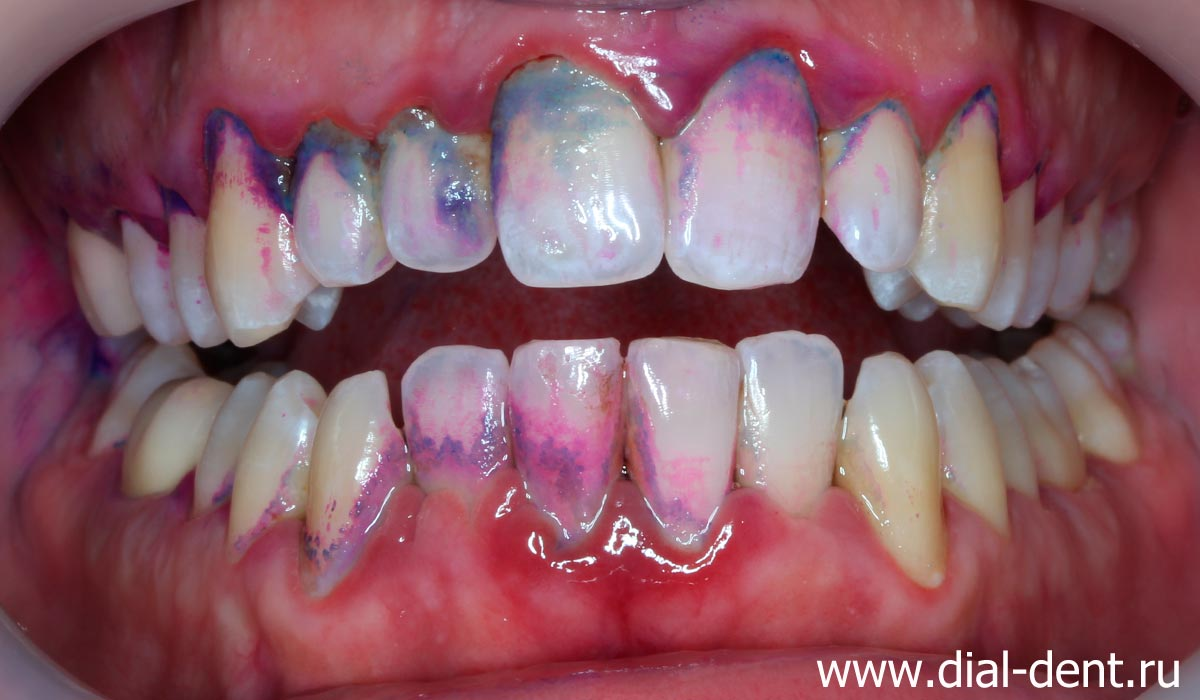LL1BC_healthy: (919, 347, 1015, 531)
LLCI_decay: (626, 337, 741, 558)
LLC_healthy: (839, 353, 933, 598)
LLLI_decay: (730, 330, 840, 524)
LR1BC_decay: (220, 369, 325, 565)
LR1M_healthy: (123, 374, 222, 522)
LR2BC_decay: (184, 370, 271, 537)
LRCI_decay: (510, 329, 628, 563)
LRC_decay: (299, 363, 406, 605)
LRLI_decay: (401, 346, 504, 528)
UL1BC_healthy: (980, 169, 1045, 337)
ULCI_decay: (663, 39, 816, 297)
ULC_decay: (868, 77, 1000, 313)
ULLI_decay: (818, 81, 916, 277)
UR1BC_decay: (201, 97, 307, 349)
UR1M_decay: (113, 214, 185, 352)
UR2BC_decay: (163, 192, 225, 353)
UR2M_healthy: (69, 223, 135, 357)
URCI_decay: (495, 49, 664, 294)
URC_decay: (289, 119, 386, 290)
URLI_decay: (370, 112, 495, 277)
